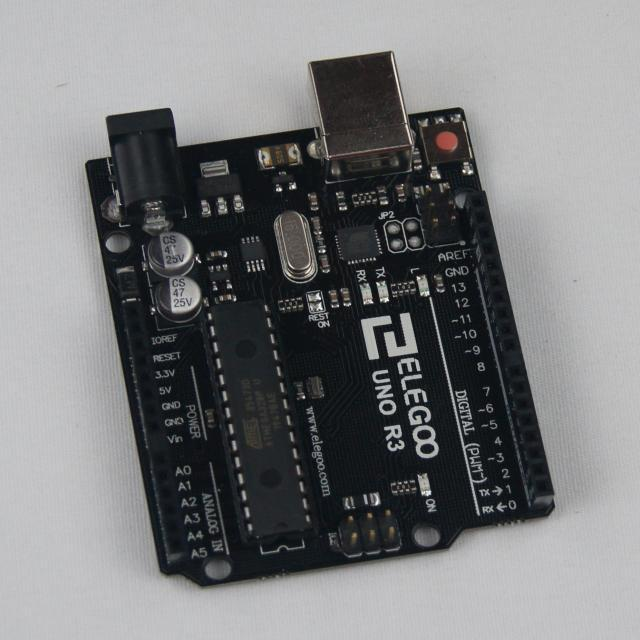Arduino Uno -Black-: (87, 53, 554, 586)
